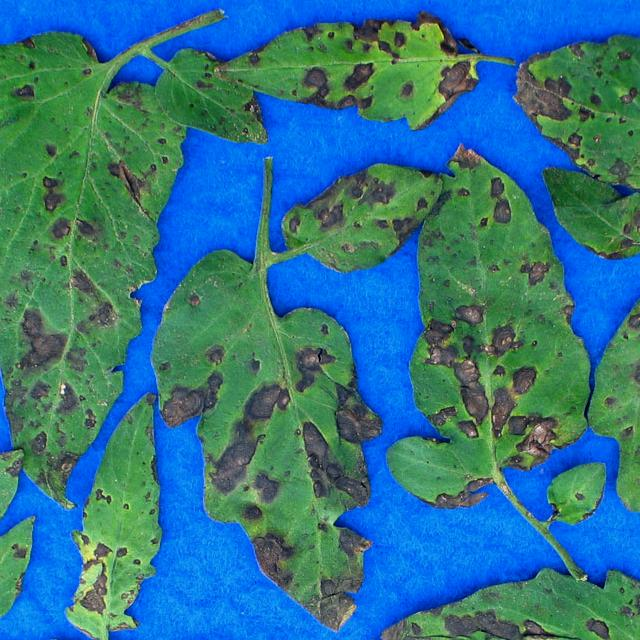Tomato Early blight leaf: (0, 29, 203, 540), (158, 244, 378, 626), (388, 132, 581, 500), (213, 4, 513, 124), (58, 392, 164, 640), (513, 40, 640, 210), (348, 567, 640, 640), (600, 239, 640, 640), (550, 170, 640, 266), (0, 502, 46, 637)
